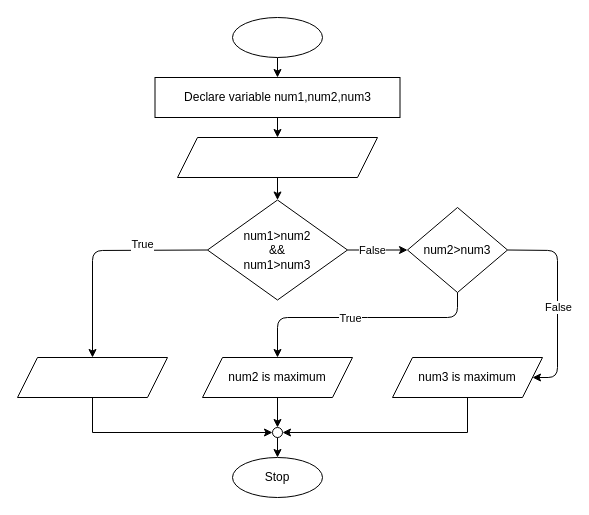
Image size: 589x515. Some labels were removed from this diagram. Each missing label, with the centre of its shape:
Input Number: the point at 277,157
num1 is maximum: the point at 92,377
Start: the point at 277,37
